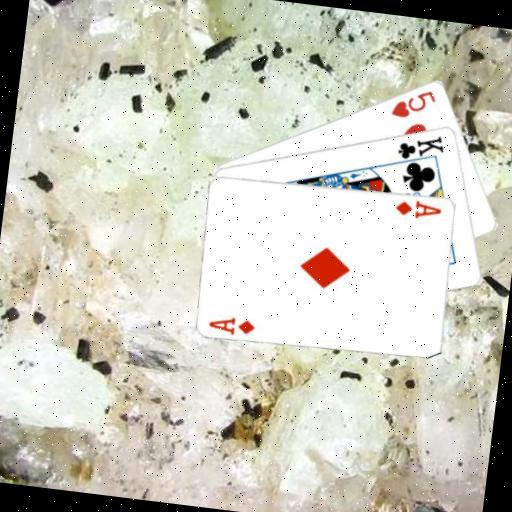5H: (388, 82, 439, 123)
AD: (392, 195, 444, 223), (205, 311, 257, 338)
KC: (392, 127, 447, 171)
